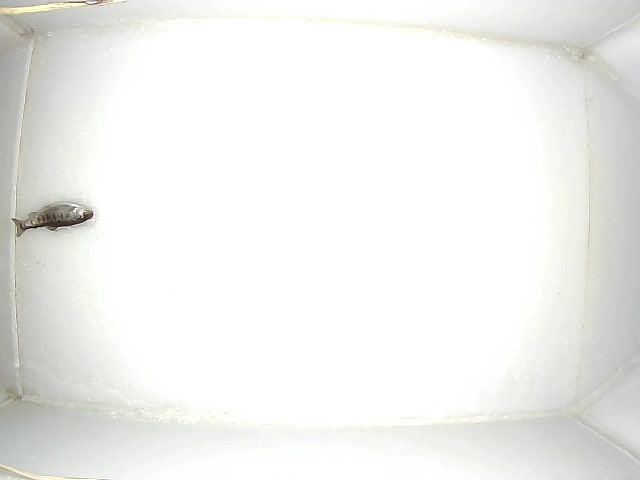fish: (11, 201, 94, 238)
